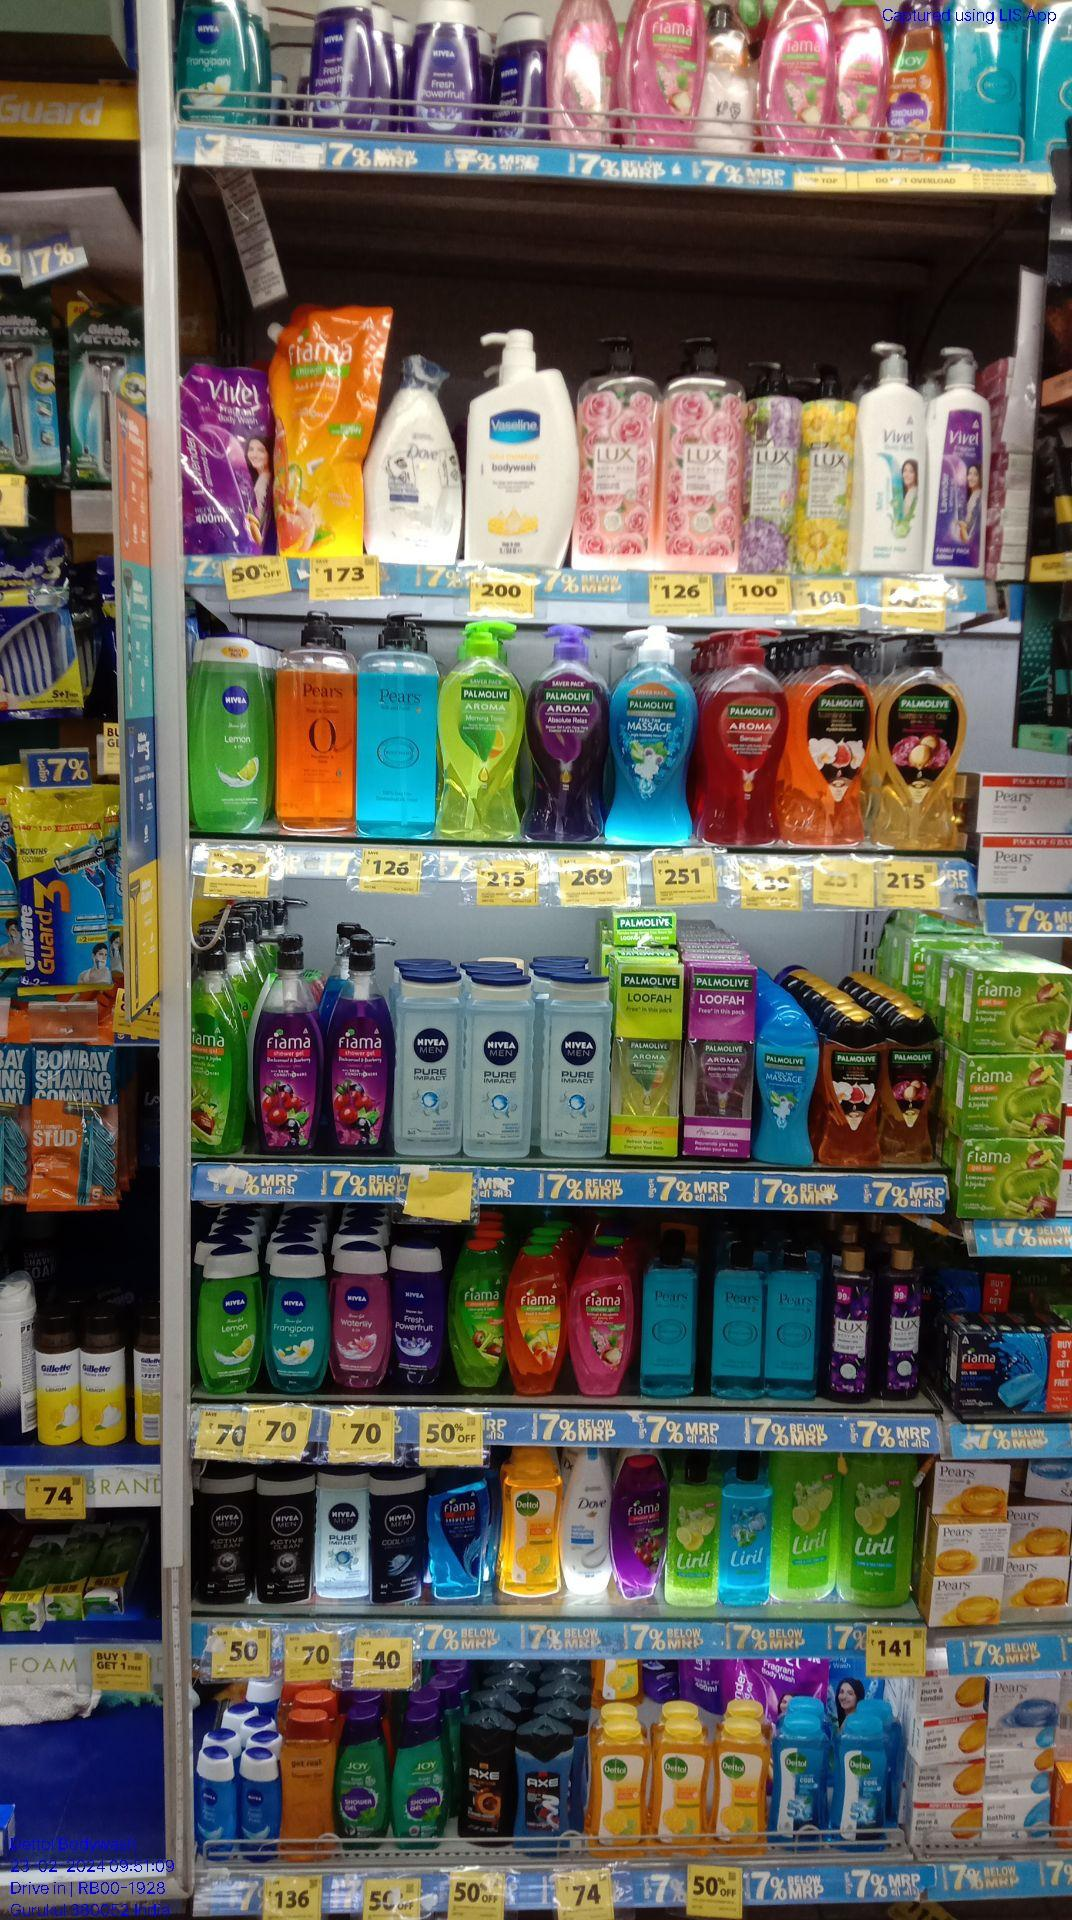Dettol_Bodywash_Cool: (770, 1709, 829, 1850), (835, 1718, 890, 1854)
Dettol_Bodywash_Refresh: (497, 1452, 560, 1601), (583, 1726, 653, 1858), (709, 1720, 766, 1855), (653, 1725, 708, 1858)
Dove_Gentle_Exfoliating_Body_Wash_250ML: (560, 1447, 609, 1600)
Fiama_Shower_Gel_Patchouli_and_Macadamia_250ML: (616, 0, 699, 154), (752, 0, 831, 161), (832, 4, 893, 161), (570, 1250, 629, 1395)
Get_Real_Shower_Gel_Moisturising_Glycerin_300ML: (274, 1710, 342, 1866)
Joy_Shower_Gel_Mint_and_Eucalyptus_250ML: (394, 1708, 451, 1850), (338, 1710, 393, 1846)
Liril_Cooling_Mint_Body_Wash_250ML: (719, 1458, 770, 1605)
Liril_Lime_and_Tea_Tree_Oil_Body_Wash_250ML: (665, 1458, 717, 1610)
Lux_Black_Orchid_Scent_and_Juniper_Oil_Body_Wash_245ML: (825, 1249, 876, 1407), (881, 1247, 926, 1399)
Nivea_Shower_Gel_Frangipani_and_Oil_250ML: (174, 0, 252, 124), (265, 1249, 328, 1395)
Nivea_Shower_Gel_Fresh_Powerfruit_250ML: (410, 0, 479, 141), (307, 0, 373, 144), (389, 1245, 443, 1386)
Nivea_Shower_Gel_Lemon_and_Oil_250ML: (191, 634, 266, 839), (198, 1250, 256, 1391)
Nivea_Shower_Gel_Waterlily_and_Oil_250ML: (334, 1244, 385, 1394)
Palmolive_Aroma_Moments_Feel_The_Massage_Shower_Gel_250ML: (757, 1014, 819, 1164)
Palmolive_Luminous_Oils_With_White_Orchid_Shower_Gel_250ML: (816, 1013, 883, 1166), (882, 1011, 941, 1166)
Pears_Pure_Glycerin_and_Mint_Extracts_Body_Wash_250ML: (637, 1245, 695, 1394), (712, 1238, 765, 1402), (765, 1247, 815, 1404)
